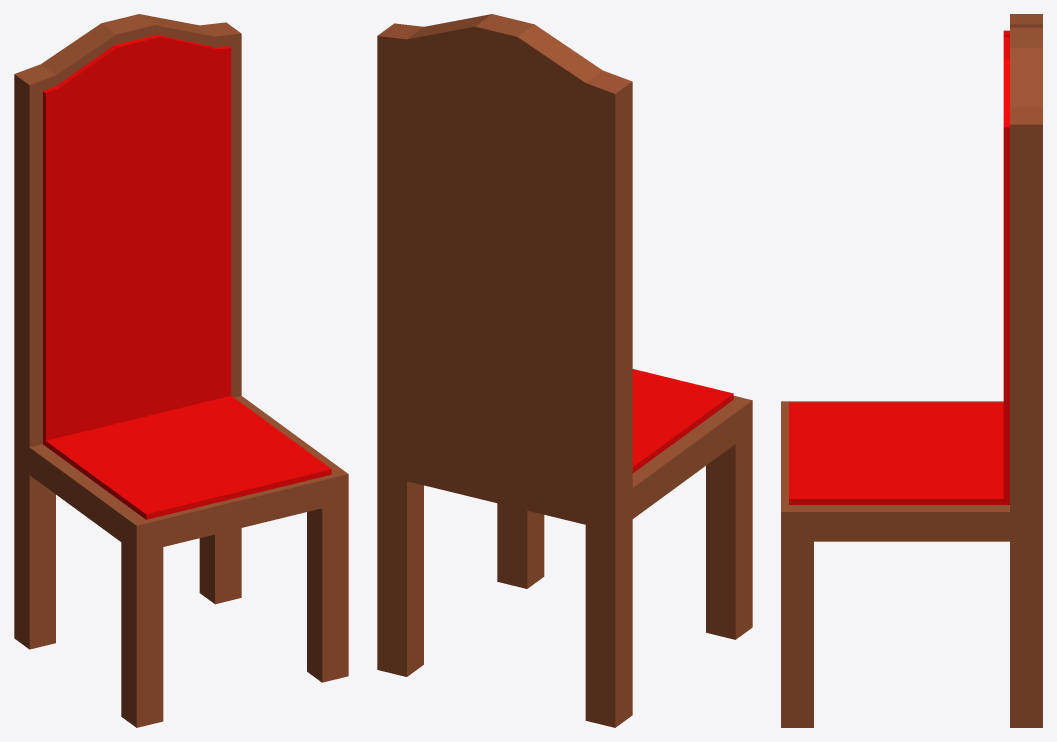
The model's file is Prop_Furniture_Fantasy_Dungeon_Chair_Wooden_Velvet_01.FBX.
3 views of the same model, side by side, from view 1: azimuth 30°, elevation 25°; view 2: azimuth 150°, elevation 25°; view 3: azimuth 270°, elevation 25° (orthographic). The views are drawn at different scales.
Parts seen in each view (by area): view 1: Prop_Furniture_Fantasy_Dungeon_Chair_Wooden_Velvet_01; view 2: Prop_Furniture_Fantasy_Dungeon_Chair_Wooden_Velvet_01; view 3: Prop_Furniture_Fantasy_Dungeon_Chair_Wooden_Velvet_01.
Part boxes in pixels (<box>): Prop_Furniture_Fantasy_Dungeon_Chair_Wooden_Velvet_01: <box>14,14,348,727</box>; Prop_Furniture_Fantasy_Dungeon_Chair_Wooden_Velvet_01: <box>377,14,752,727</box>; Prop_Furniture_Fantasy_Dungeon_Chair_Wooden_Velvet_01: <box>781,14,1042,727</box>.
Size of the model in its own units: 413 by 1106 by 413.
